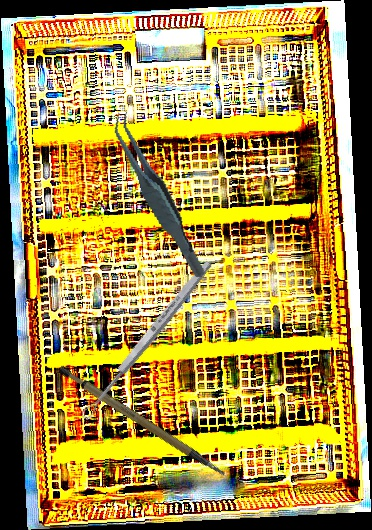Scalpel Handle: (55, 345, 229, 503)
Surgical Spoon: (78, 258, 215, 422)
Tissue Forceps: (109, 101, 207, 289)
